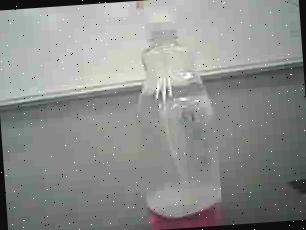hazard: (123, 0, 237, 230)
